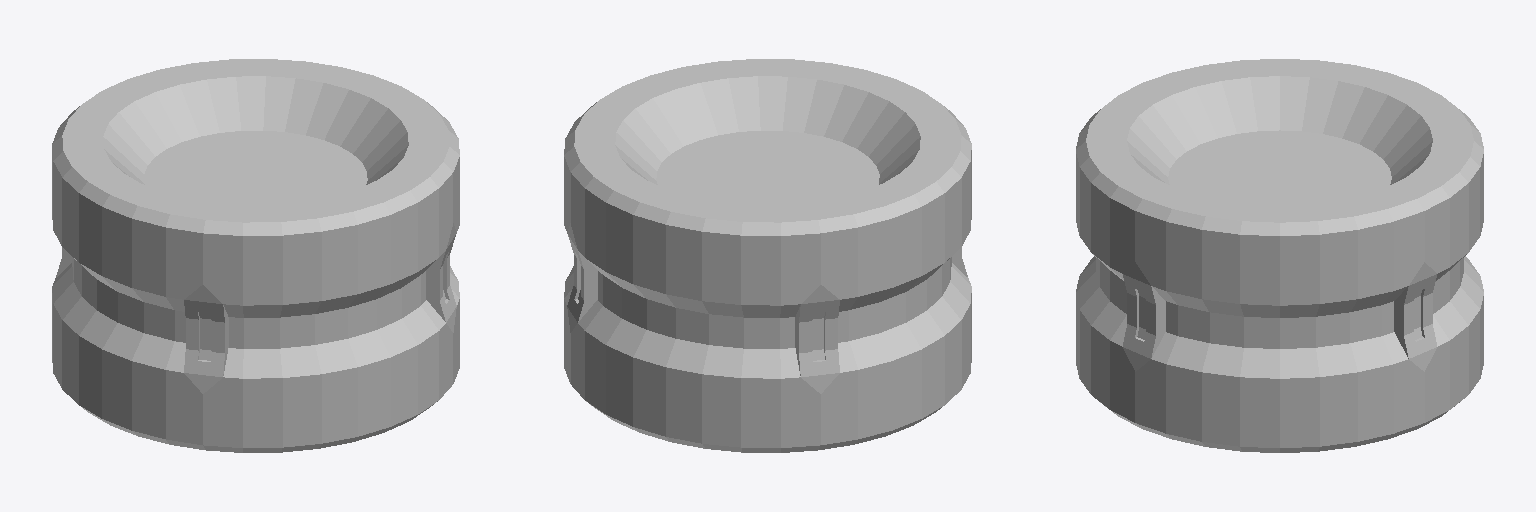
File: creature_part.obj
The picture shows the model from 3 angles: view 1: azimuth 30°, elevation 25°; view 2: azimuth 150°, elevation 25°; view 3: azimuth 270°, elevation 25°; orthographic projection.
Visible parts, largest first — view 1: CylinderApplied; view 2: CylinderApplied; view 3: CylinderApplied.
Part boxes in pixels (x1,y1,x2,y2): CylinderApplied: (52,59,459,452); CylinderApplied: (564,59,971,452); CylinderApplied: (1076,59,1483,452).
Size of the model in its own units: 30 by 18.67 by 30.